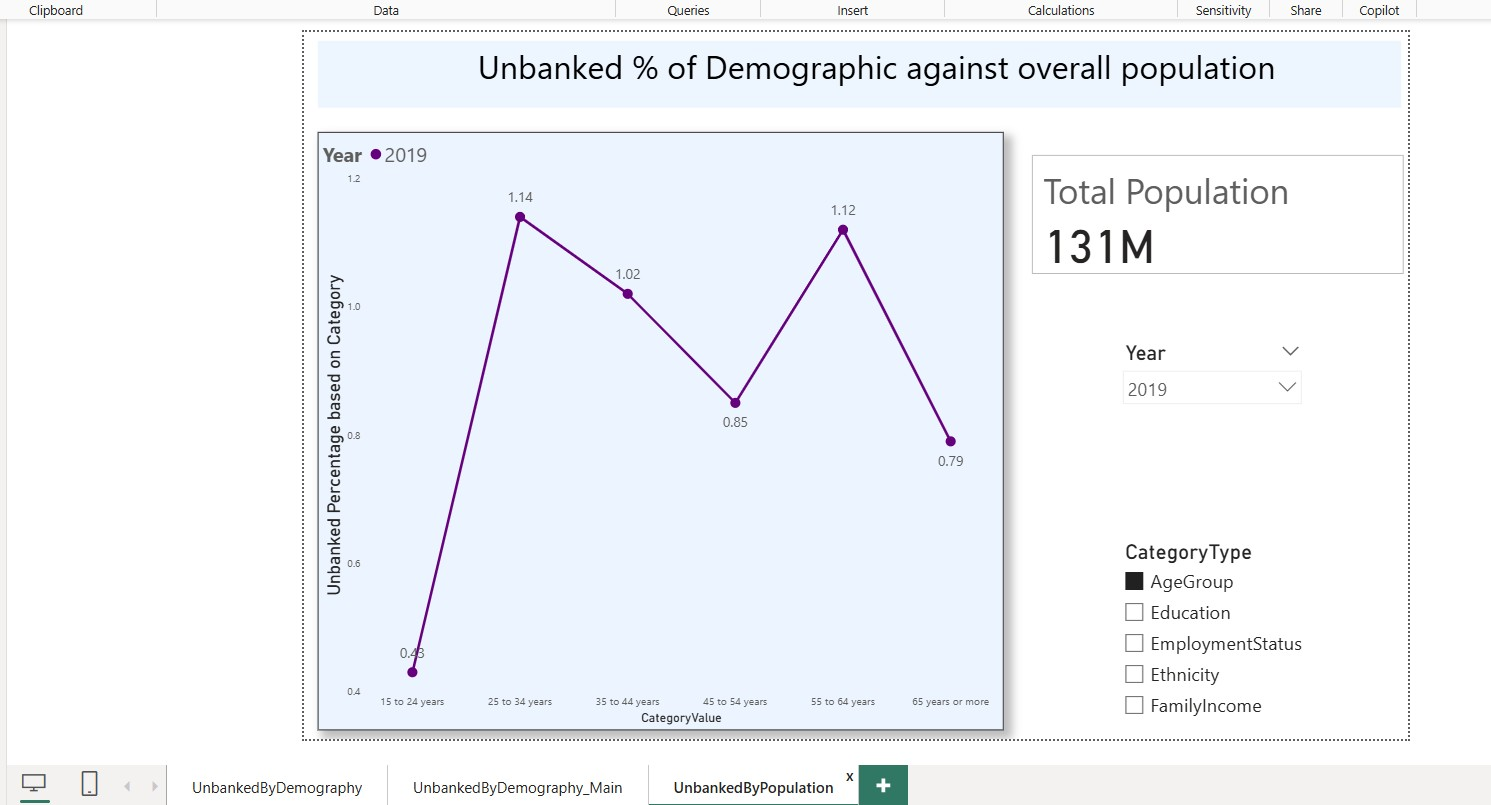

Layout of this report page (visuals, bound fields, positions):
{"tool":"powerbi","page":{"name":"UnbankedByPopulation","canvas":[1280,820],"ordinal":2},"visuals":[{"type":"slicer","fields":{"Values":["DimCategory.CategoryType"]},"box":[939,583.4,279.6,236],"z":0},{"type":"lineChart","fields":{"Series":["DimYear.Year"],"Category":["UnbankedPCTView.CategoryValue"],"Y":["Sum(UnbankedPCTView.Unbanked_Headcount_Pct_of_Total)"]},"box":[16.2,116.4,795.2,693.3],"z":1000},{"type":"slicer","fields":{"Values":["DimYear.Year"]},"box":[939,353.9,227.9,190.7],"z":2000},{"type":"textbox","box":[16.2,9.7,1255.8,77.6],"z":3000},{"type":"cardVisual","fields":{"Data":["Sum(UnbankedPCTView.Households)"]},"box":[838.8,137.4,441.2,148.7],"z":4000}]}

Visuals, with their boxes on the page's 1280x820 design canvas (x1, y1, x2, y2). These are canvas units, not pixel positions in the 1491x805 screenshot, which may show the page scaled, cropped or inside an application window:
slicer - DimCategory.CategoryType: 939 583 1219 819
lineChart - DimYear.Year x UnbankedPCTView.CategoryValue: 16 116 811 810
slicer - DimYear.Year: 939 354 1167 545
textbox: 16 10 1272 87
cardVisual - Sum(UnbankedPCTView.Households): 839 137 1280 286
